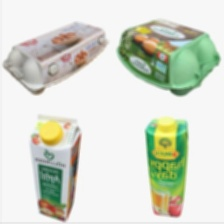carton: (114, 12, 223, 102), (0, 14, 111, 100), (26, 107, 85, 223), (144, 114, 192, 221)
